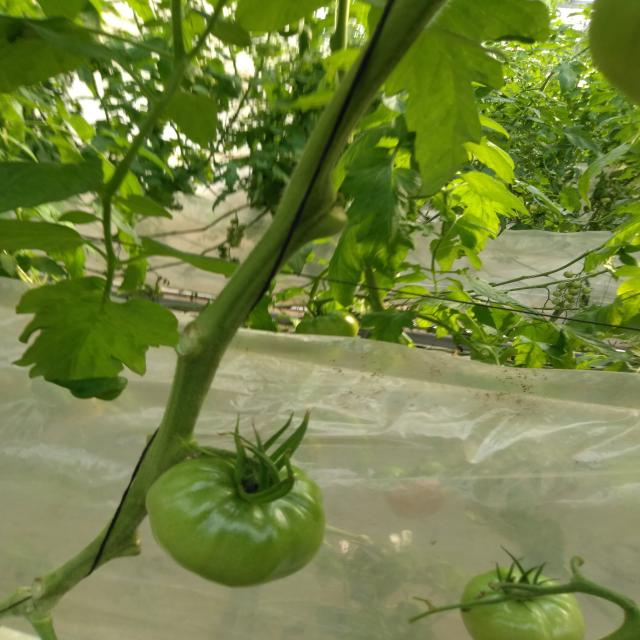n-unriped: (145, 453, 326, 588), (461, 566, 585, 640), (295, 310, 360, 337)
